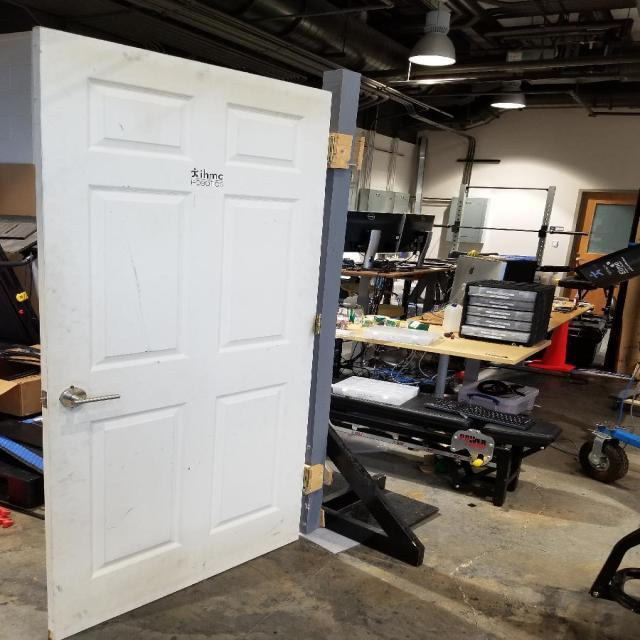door: (27, 25, 336, 640), (54, 381, 122, 415)
